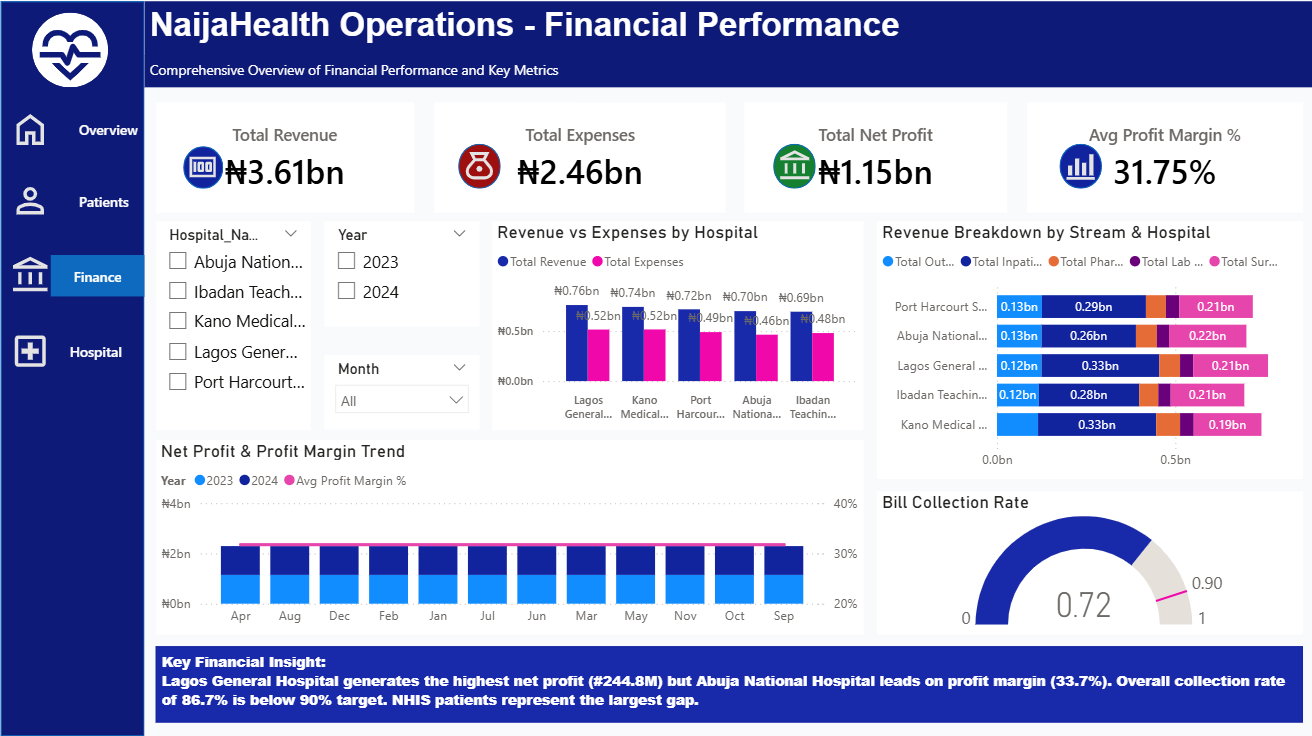

The page's visual inventory and layout, read from the dashboard file:
{"tool":"powerbi","page":{"name":"Financial Performance","canvas":[1280,720],"ordinal":2},"visuals":[{"type":"textbox","box":[152,10.9,1128,51.9],"z":0},{"type":"shape","box":[13.3,10.9,138.7,709.4],"z":1000},{"type":"shape","box":[43.4,21.7,73.6,72.4],"z":2000},{"type":"image","box":[48.3,16.9,63.9,91.7],"z":3000},{"type":"textbox","box":[152,62.7,1128,31.4],"z":4000},{"type":"actionButton","box":[61.5,255.8,90.5,39.8],"z":5000},{"type":"actionButton","box":[61.5,324.5,86.9,48.3],"z":6000},{"type":"image","box":[21.7,114.6,39.8,39.8],"z":8000},{"type":"image","box":[21.7,183.4,39.8,39.8],"z":9000},{"type":"image","box":[21.7,324.5,39.8,48.3],"z":11000},{"type":"image","box":[21.7,255.8,39.8,39.8],"z":12000},{"type":"actionButton","box":[73.6,114.6,86.9,39.8],"z":13000},{"type":"actionButton","box":[73.6,183.4,78.4,39.8],"z":14000},{"type":"cardVisual","fields":{"Data":["> Measures.Total Revenue"]},"box":[162.9,108.6,249.7,106.2],"z":15000},{"type":"cardVisual","fields":{"Data":["> Measures.Total Net Profit"]},"box":[731.5,108.6,253.4,106.2],"z":16000},{"type":"cardVisual","fields":{"Data":["> Measures.Avg Profit Margin %"]},"box":[1003.8,108.6,266.6,106.2],"z":17000},{"type":"cardVisual","fields":{"Data":["> Measures.Total Expenses"]},"box":[431.5,108.6,281.1,106.2],"z":18000},{"type":"clusteredColumnChart","title":"Revenue vs Expenses by Hospital","fields":{"Category":["Hospital.Hospital_Name"],"Y":["> Measures.Total Revenue","> Measures.Total Expenses"]},"box":[487.4,223.2,358.3,201.5],"z":19000},{"type":"lineStackedColumnComboChart","title":"Net Profit & Profit Margin Trend","fields":{"Category":["DateTable.Month"],"Y":["> Measures.Total Net Profit"],"Y2":["> Measures.Avg Profit Margin %"],"Series":["DateTable.Year"]},"box":[162.9,434.3,682.8,188.2],"z":20000},{"type":"gauge","title":"Bill Collection Rate","fields":{"Y":["> Measures.Collectiom Rate"],"TargetValue":["> Measures.Collection Target"],"MinValue":["> Measures.Minimum Value"],"MaxValue":["> Measures.Maximum Value"]},"box":[859,483.8,411.4,138.7],"z":21000},{"type":"slicer","fields":{"Values":["Hospital.Hospital_Name"]},"box":[162.9,223.2,149.6,201.5],"z":22000},{"type":"slicer","fields":{"Values":["DateTable.Year"]},"box":[325.7,223.2,149.6,101.3],"z":23000},{"type":"slicer","fields":{"Values":["DateTable.Month"]},"box":[325.7,352.3,149.6,72.4],"z":24000},{"type":"textbox","box":[162.9,633.4,1107.5,73.6],"z":25000},{"type":"barChart","title":"Revenue Breakdown by Stream & Hospital","fields":{"Y":["> Measures.Total Outpatient Revenue","> Measures.Total Inpatient Revenue","> Measures.Total Pharmacy Revenue","> Measures.Total Lab Revenue","> Measures.Total Surgery Revenue"],"Category":["Hospital.Hospital_Name"]},"box":[859,223.2,411.4,248.5],"z":26000},{"type":"shape","box":[189.4,150.8,38.6,41],"z":27000},{"type":"shape","box":[1035.1,148.4,41,43.4],"z":28000},{"type":"shape","box":[758.9,148.4,41,43.4],"z":29000},{"type":"shape","box":[454.8,148.4,41,43.4],"z":30000},{"type":"image","box":[761.3,153.2,36.2,33.8],"z":31000},{"type":"image","box":[193,152,30.2,37.4],"z":32000},{"type":"image","box":[451.2,152,48.3,35],"z":33000},{"type":"image","box":[1035.1,154.4,41,32.6],"z":34000}]}

Visuals, with their boxes on the page's 1280x720 design canvas (x1, y1, x2, y2). These are canvas units, not pixel positions in the 1312x736 screenshot, which may show the page scaled, cropped or inside an application window:
textbox: Rect(152, 11, 1280, 63)
shape: Rect(13, 11, 152, 720)
shape: Rect(43, 22, 117, 94)
image: Rect(48, 17, 112, 109)
textbox: Rect(152, 63, 1280, 94)
actionButton: Rect(62, 256, 152, 296)
actionButton: Rect(62, 324, 148, 373)
image: Rect(22, 115, 62, 154)
image: Rect(22, 183, 62, 223)
image: Rect(22, 324, 62, 373)
image: Rect(22, 256, 62, 296)
actionButton: Rect(74, 115, 160, 154)
actionButton: Rect(74, 183, 152, 223)
cardVisual - > Measures.Total Revenue: Rect(163, 109, 413, 215)
cardVisual - > Measures.Total Net Profit: Rect(732, 109, 985, 215)
cardVisual - > Measures.Avg Profit Margin %: Rect(1004, 109, 1270, 215)
cardVisual - > Measures.Total Expenses: Rect(432, 109, 713, 215)
"Revenue vs Expenses by Hospital" clusteredColumnChart: Rect(487, 223, 846, 425)
"Net Profit & Profit Margin Trend" lineStackedColumnComboChart: Rect(163, 434, 846, 622)
"Bill Collection Rate" gauge: Rect(859, 484, 1270, 622)
slicer - Hospital.Hospital_Name: Rect(163, 223, 312, 425)
slicer - DateTable.Year: Rect(326, 223, 475, 324)
slicer - DateTable.Month: Rect(326, 352, 475, 425)
textbox: Rect(163, 633, 1270, 707)
"Revenue Breakdown by Stream & Hospital" barChart: Rect(859, 223, 1270, 472)
shape: Rect(189, 151, 228, 192)
shape: Rect(1035, 148, 1076, 192)
shape: Rect(759, 148, 800, 192)
shape: Rect(455, 148, 496, 192)
image: Rect(761, 153, 798, 187)
image: Rect(193, 152, 223, 189)
image: Rect(451, 152, 500, 187)
image: Rect(1035, 154, 1076, 187)
